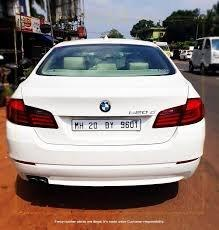Liscence Plate: (72, 119, 142, 131)
